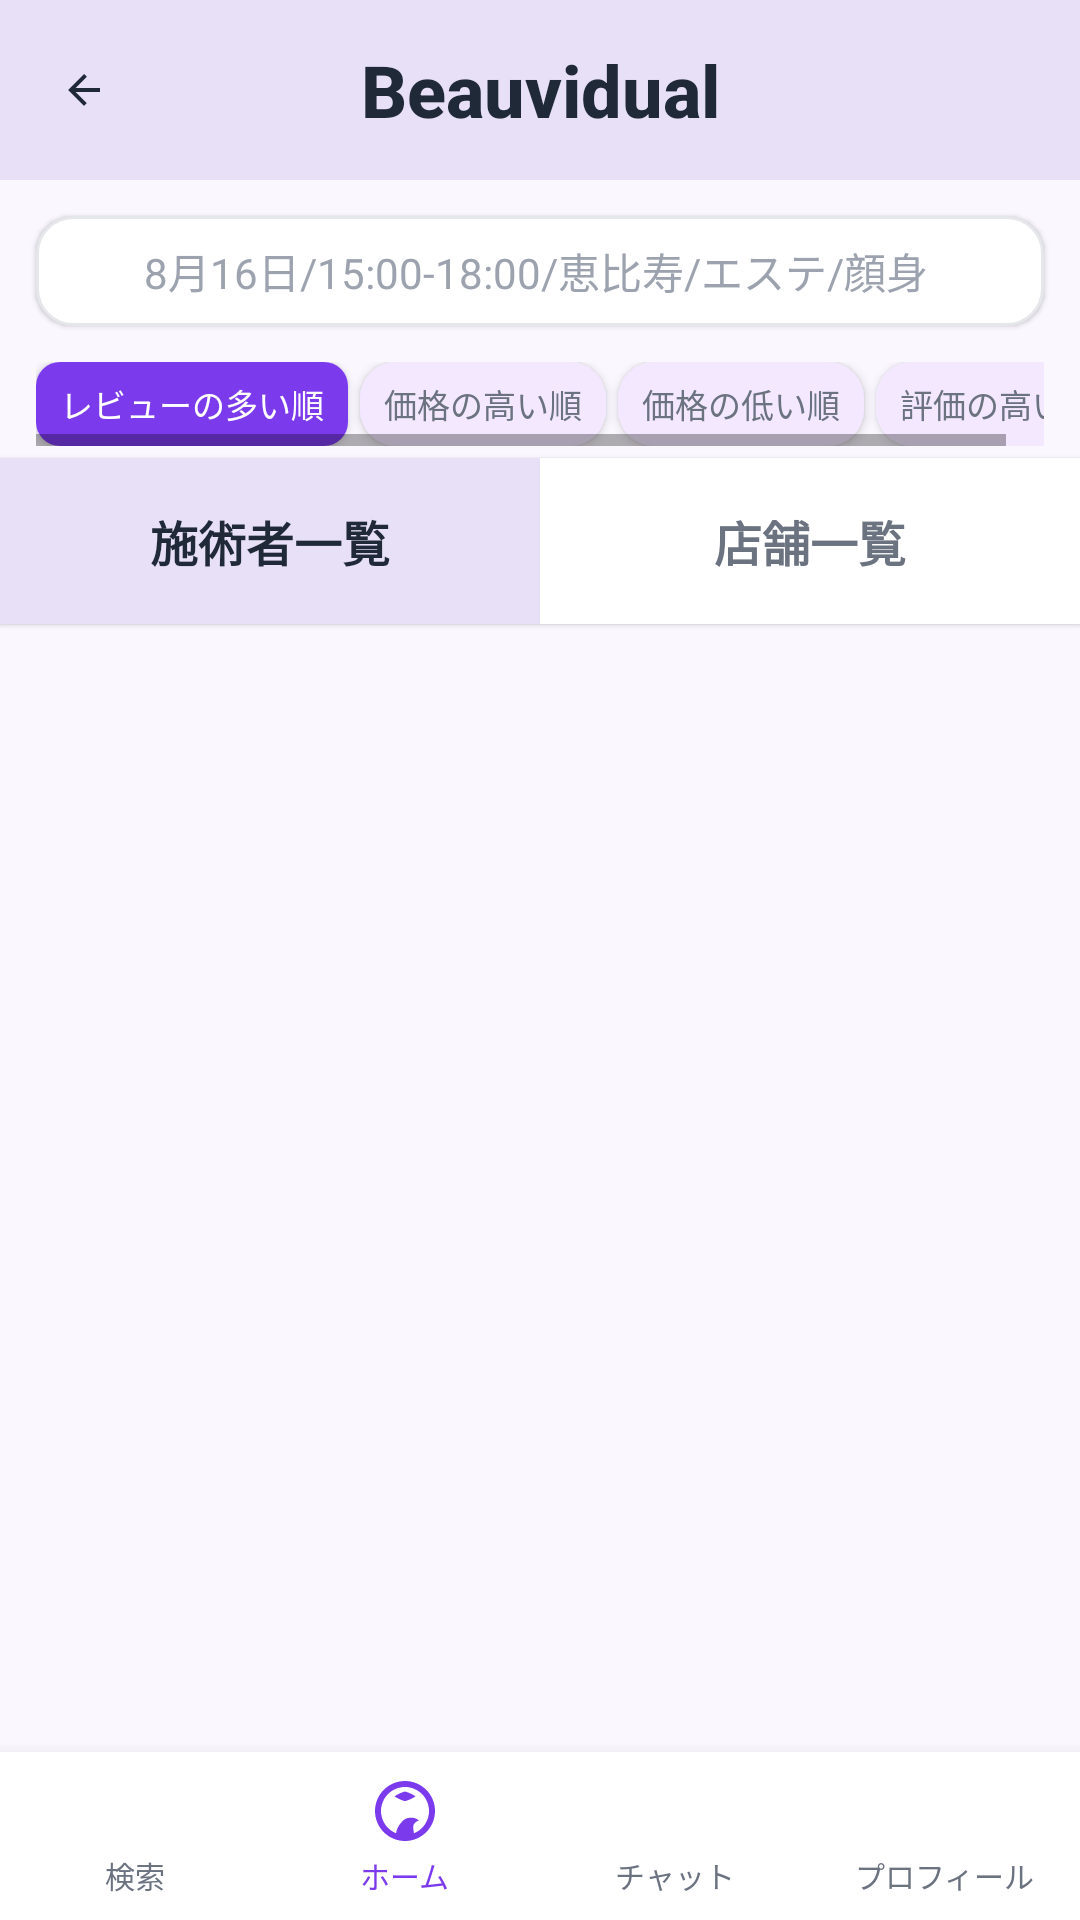

Named icons in this screenshot (1080 × 1920) and their bounding boxes, detection(x1, y1, x2, y2):
戻る: detection(68, 74, 100, 106)
